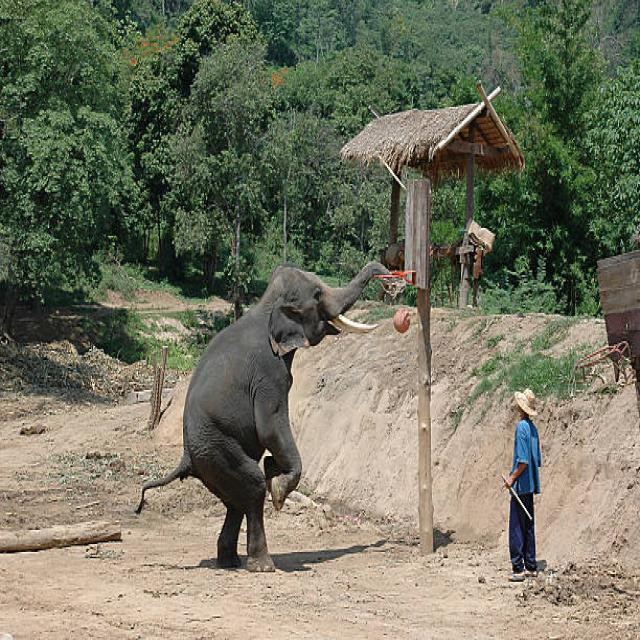Elephant: (156, 247, 390, 578)
